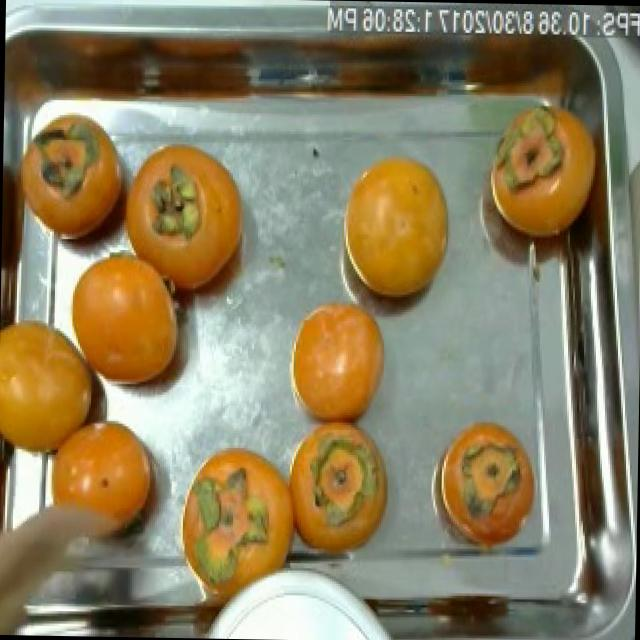Fruit: (110, 128, 258, 296), (66, 234, 202, 412), (34, 402, 170, 558), (475, 84, 602, 250), (0, 299, 118, 477), (336, 144, 461, 312), (19, 97, 140, 270), (276, 409, 400, 572), (424, 408, 550, 564), (279, 287, 396, 443)
